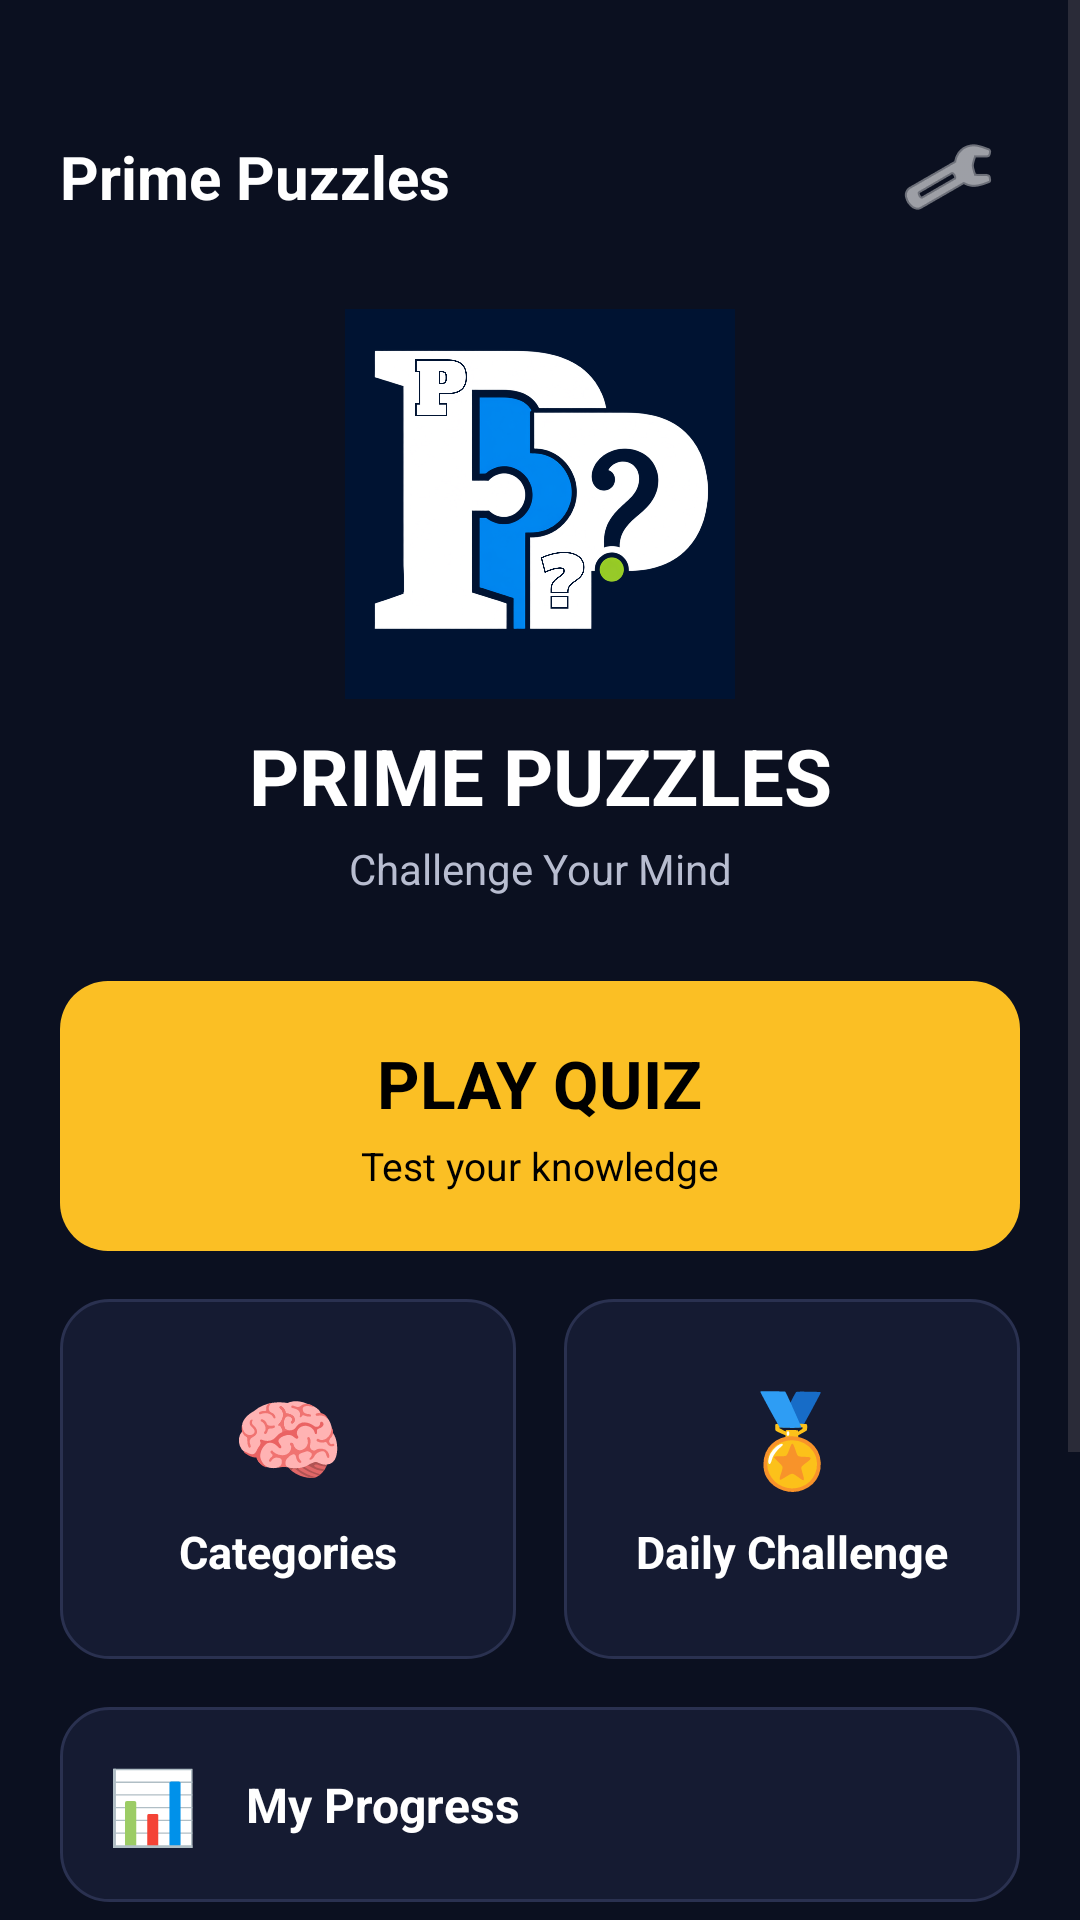

Icon bounding boxes for this 1080×1920 phone screenshot, format (x1, y1, x2, y2):
Settings: (905, 144, 991, 210)
